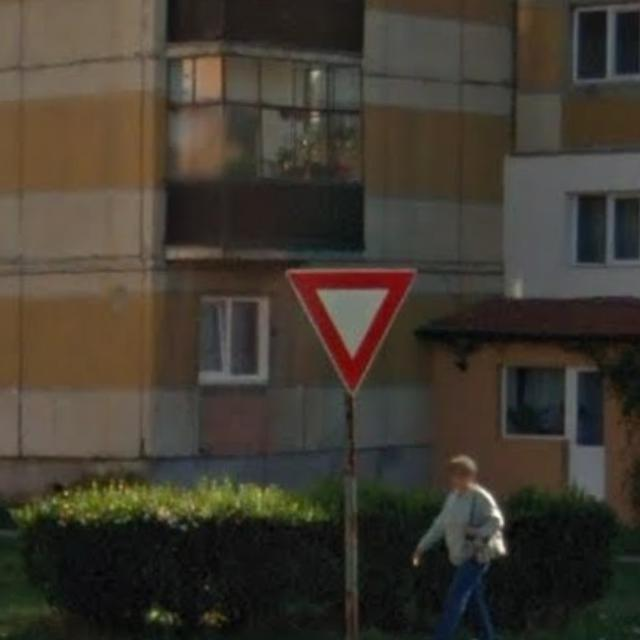prio_give_way: (282, 266, 416, 398)
